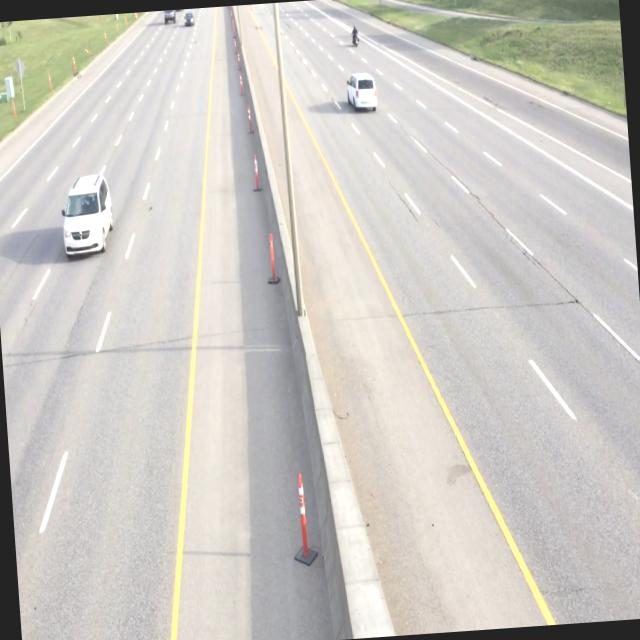Vehicle: (57, 169, 117, 266), (344, 68, 379, 117)
